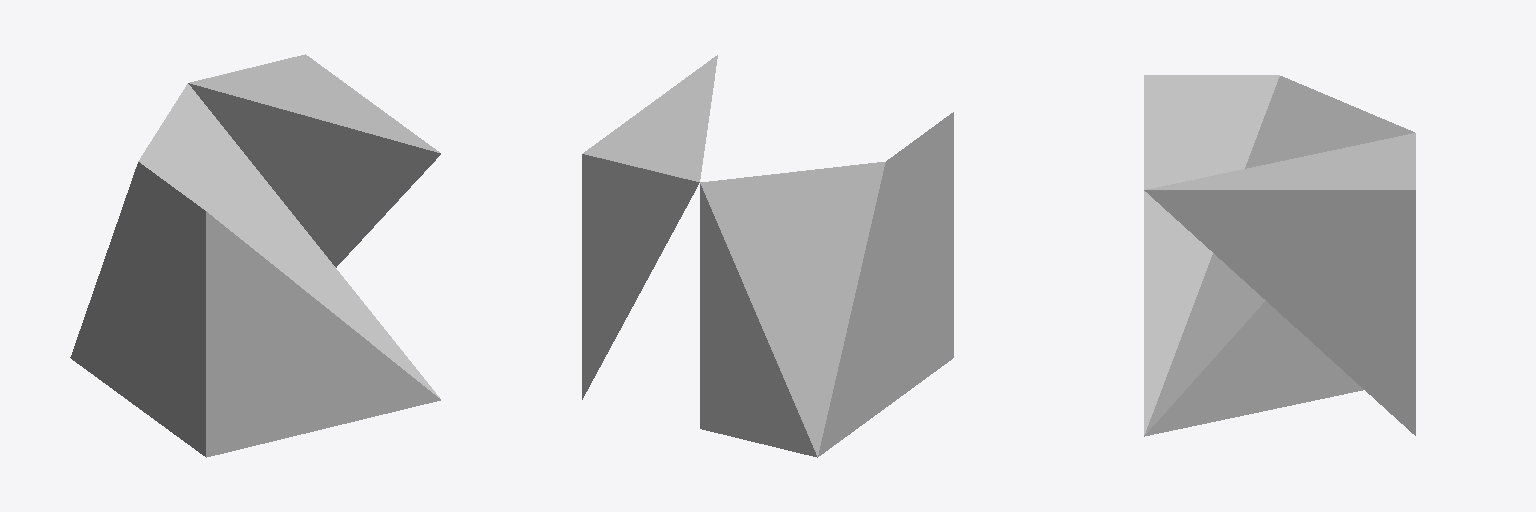
The model's file is TestObject5.obj.
3 views of the same model, side by side, from view 1: azimuth 30°, elevation 25°; view 2: azimuth 150°, elevation 25°; view 3: azimuth 270°, elevation 25° (orthographic).
Parts seen in each view (by area): view 1: Cube_Cube.002; view 2: Cube_Cube.002; view 3: Cube_Cube.002.
Part boxes in pixels (bbox=[...]): Cube_Cube.002: bbox=[70, 54, 440, 457]; Cube_Cube.002: bbox=[582, 55, 953, 457]; Cube_Cube.002: bbox=[1144, 75, 1415, 436].
Size of the model in its own units: 1 by 1 by 1.